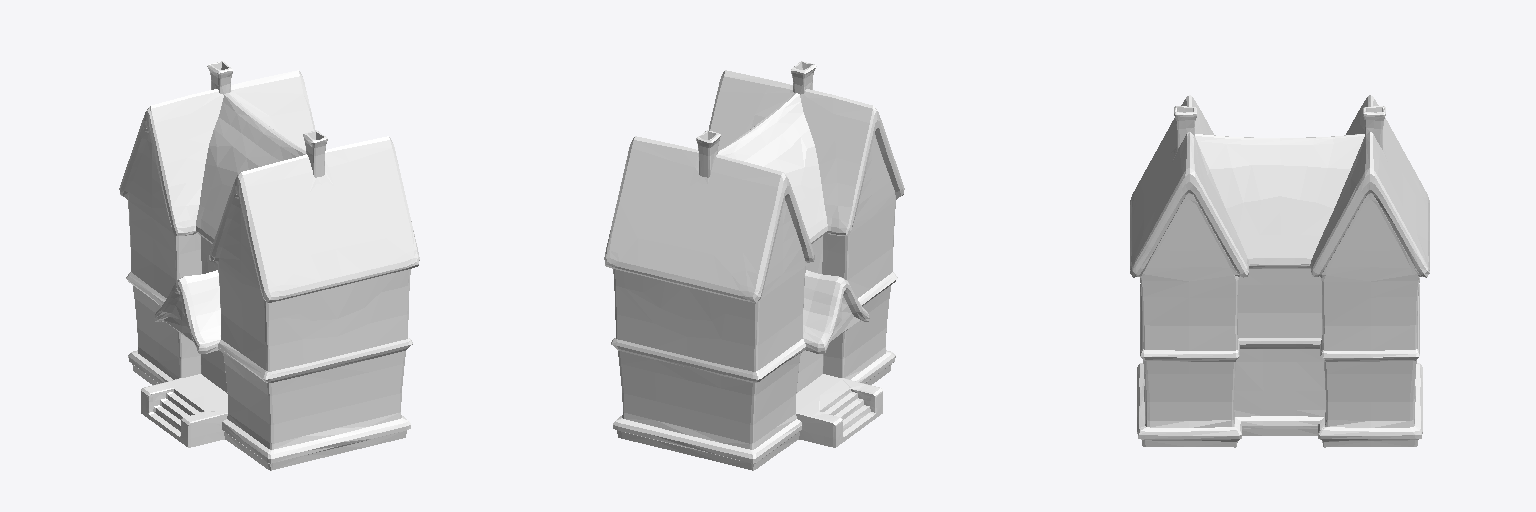
The model's file is House-2.obj.
The picture shows the model from 3 angles: view 1: azimuth 30°, elevation 25°; view 2: azimuth 150°, elevation 25°; view 3: azimuth 270°, elevation 25°; orthographic projection.
Parts seen in each view (by area): view 1: House_2; view 2: House_2; view 3: House_2.
Boxes of the visible parts, x1=… form: House_2: x1=119, y1=61, x2=419, y2=470; House_2: x1=604, y1=61, x2=904, y2=470; House_2: x1=1130, y1=95, x2=1429, y2=447.
Bounding box in the file's own units: 3.21 × 5.1 × 4.55.